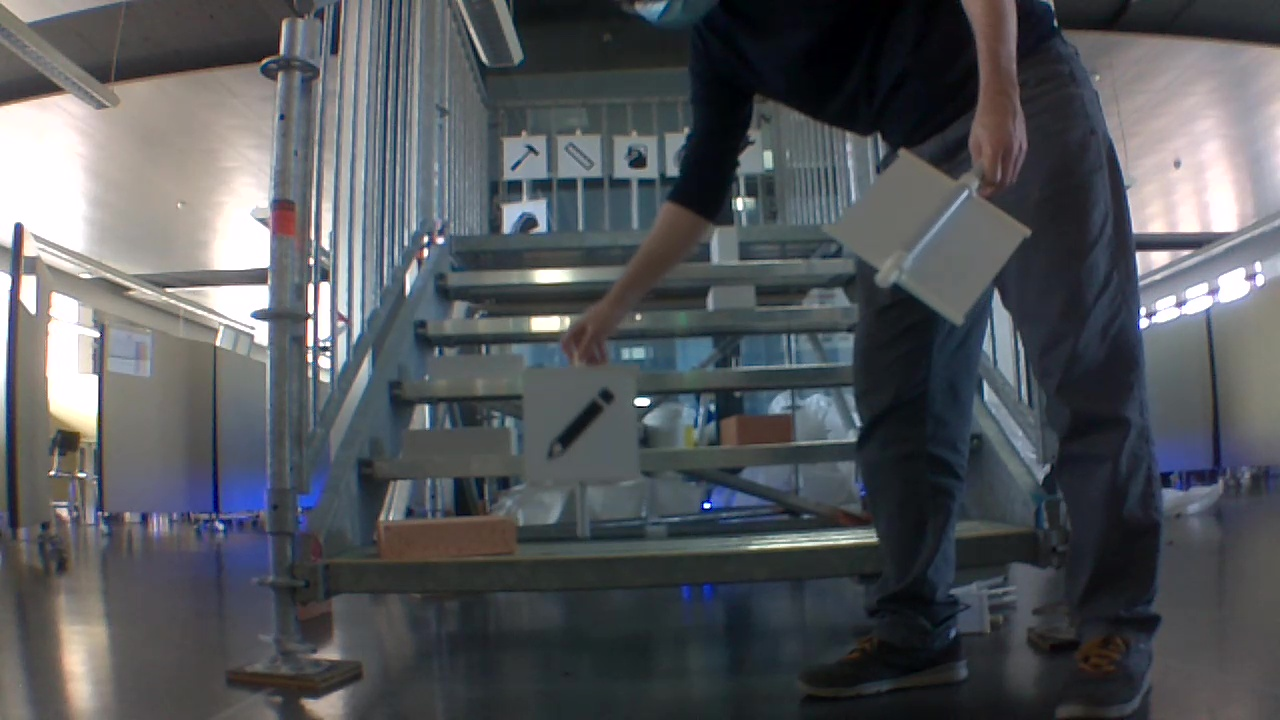brick: (377, 516, 519, 558), (405, 428, 513, 460), (428, 352, 520, 380), (719, 413, 792, 445), (708, 283, 754, 308), (714, 226, 737, 266)
bucket: (626, 144, 650, 172)
edge: (320, 535, 878, 600)
hammer: (508, 141, 541, 173)
pencil: (545, 386, 618, 460)
ruler: (562, 140, 596, 170)
taco: (510, 210, 539, 237)
